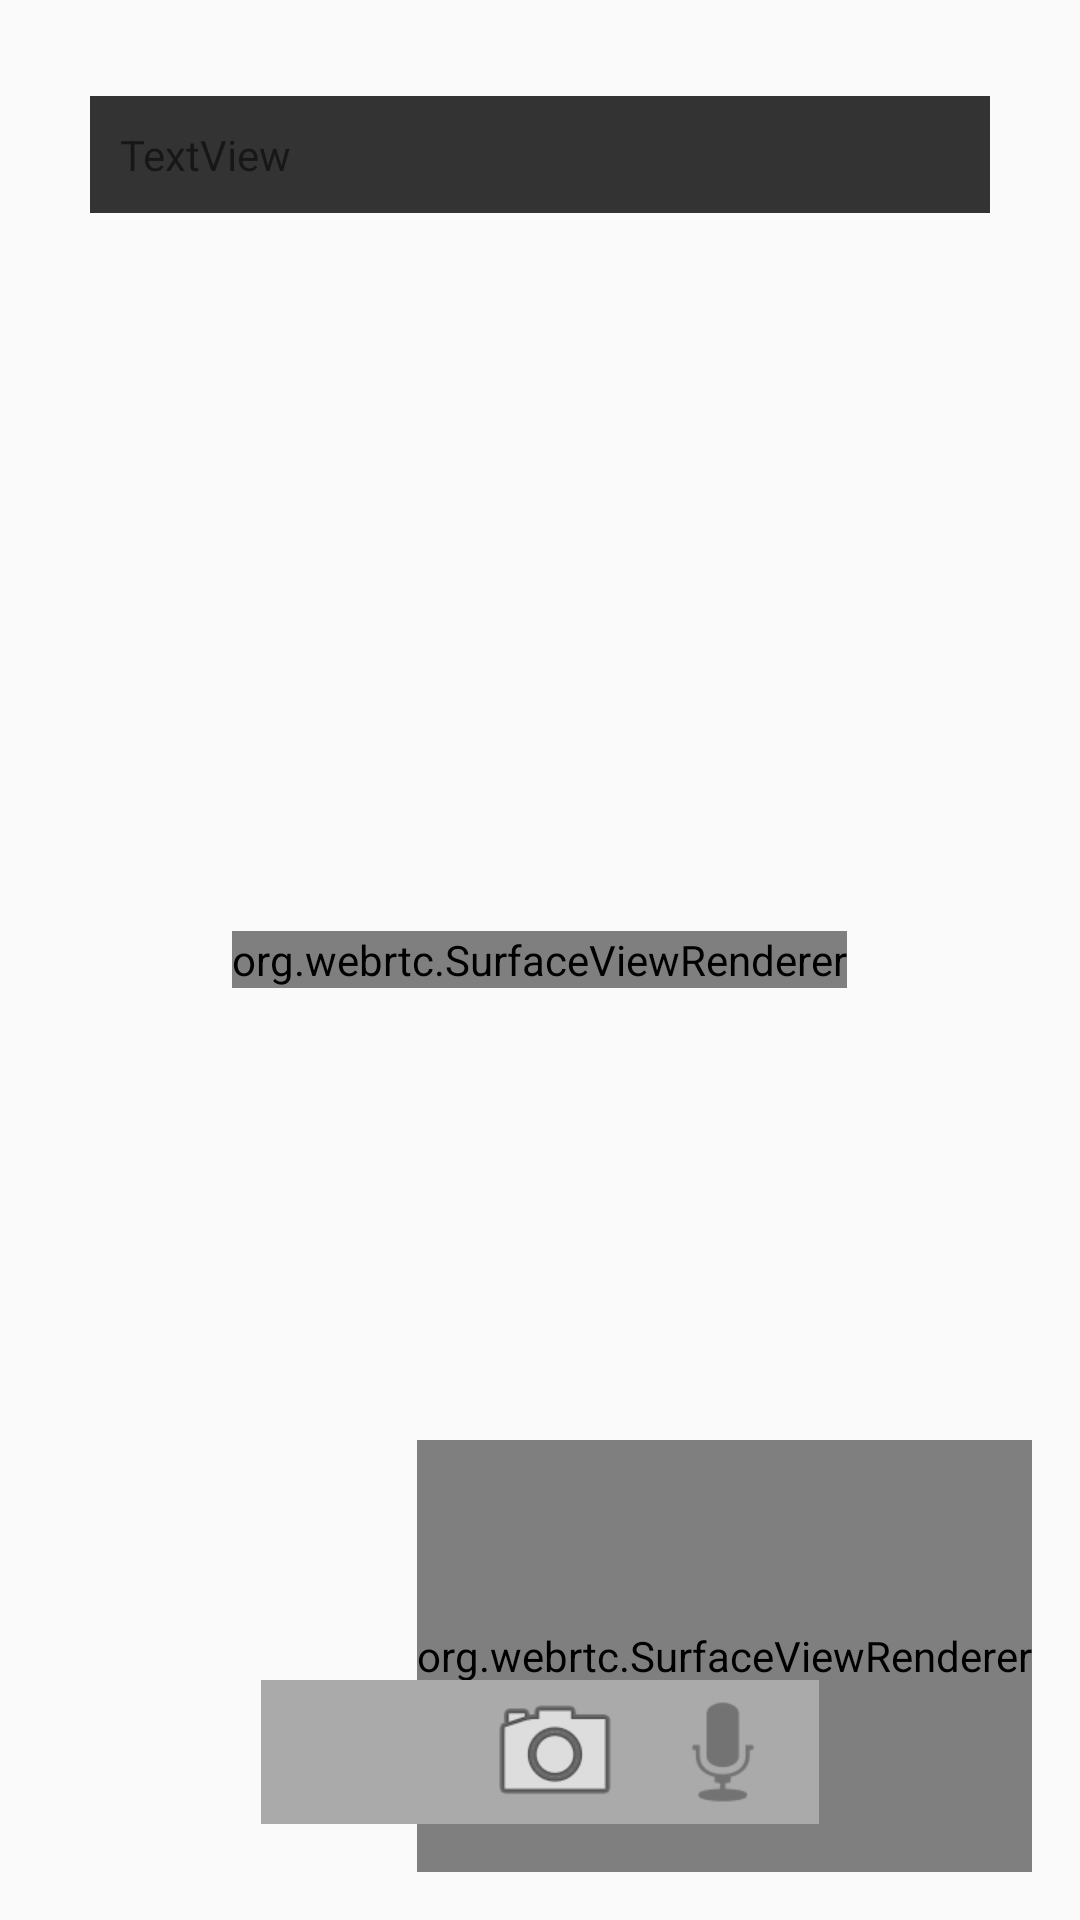

Where icons sit on this 1080x1920 app screen, as Rect(x1, y1, x2, y2):
Switch front/back camera: Rect(500, 1706, 610, 1794)
Toggle microphone on/off: Rect(692, 1703, 753, 1801)
